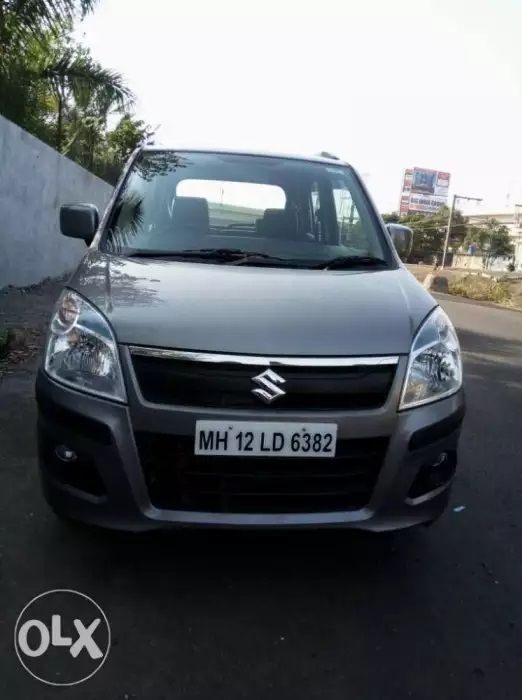licenseplate: (188, 416, 340, 460)
